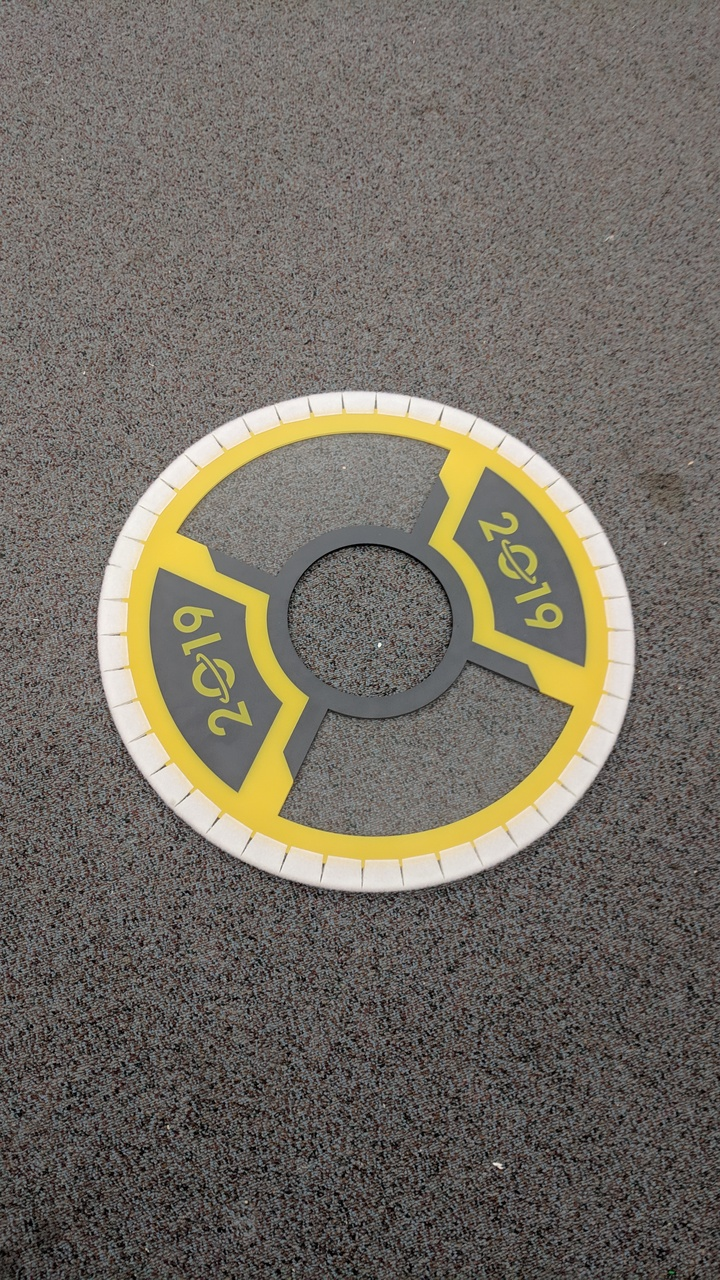hatch_panel: (94, 387, 642, 903)
